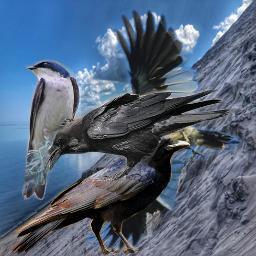Crow: (10, 133, 190, 255), (44, 89, 231, 181)
Swallow: (20, 59, 81, 200)
Woodpecker: (85, 8, 242, 252)
